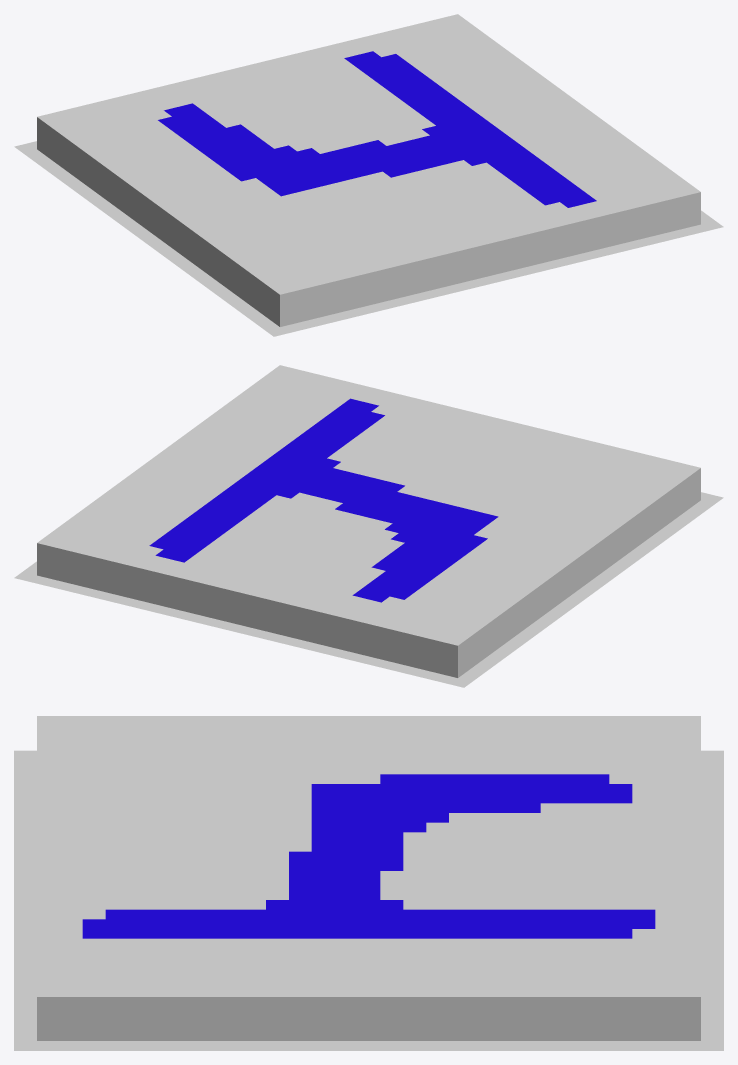
The model's file is 4Tile.fbx.
3 renders of one model, top to bottom at view 1: azimuth 30°, elevation 25°; view 2: azimuth 150°, elevation 25°; view 3: azimuth 270°, elevation 25°, orthographic. The views are drawn at different scales.
Visible parts, largest first — view 1: Plane; view 2: Plane; view 3: Plane.
Part boxes in pixels (x1,y1,x2,y2): Plane: [14, 14, 723, 336]; Plane: [14, 365, 723, 687]; Plane: [14, 716, 723, 1050].
Size of the model in its own units: 200 by 13.77 by 200.
